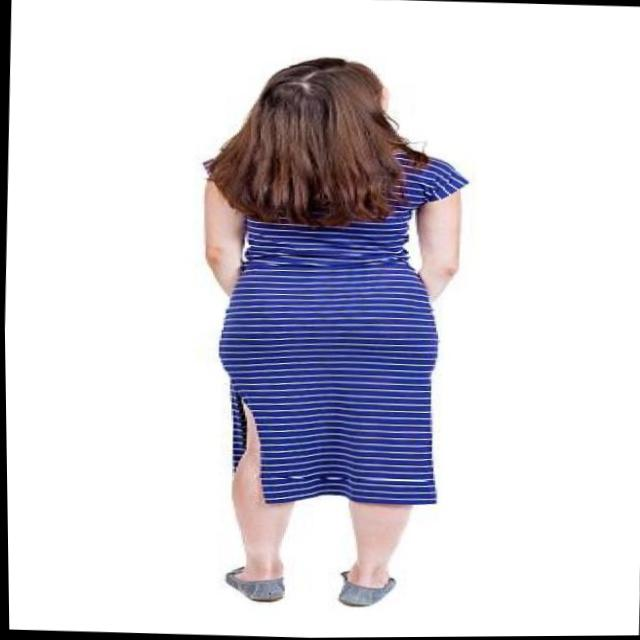no helmet: (249, 52, 405, 152)
